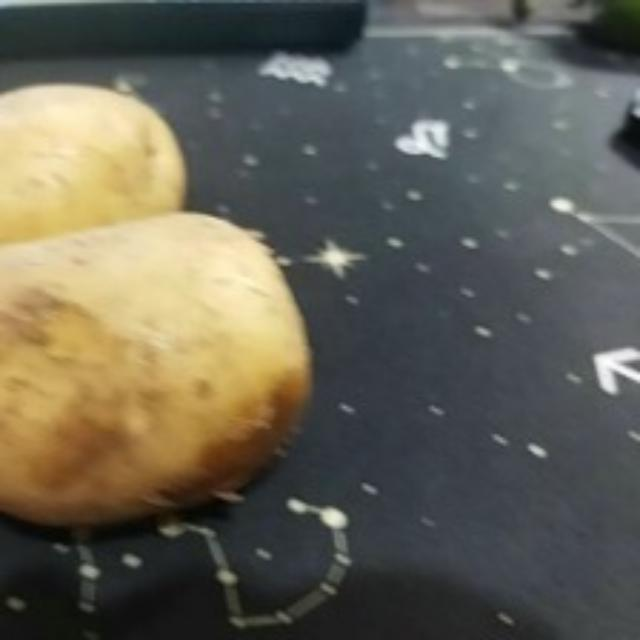Damaged potato: (2, 207, 322, 535)
Potato: (1, 84, 199, 246)
